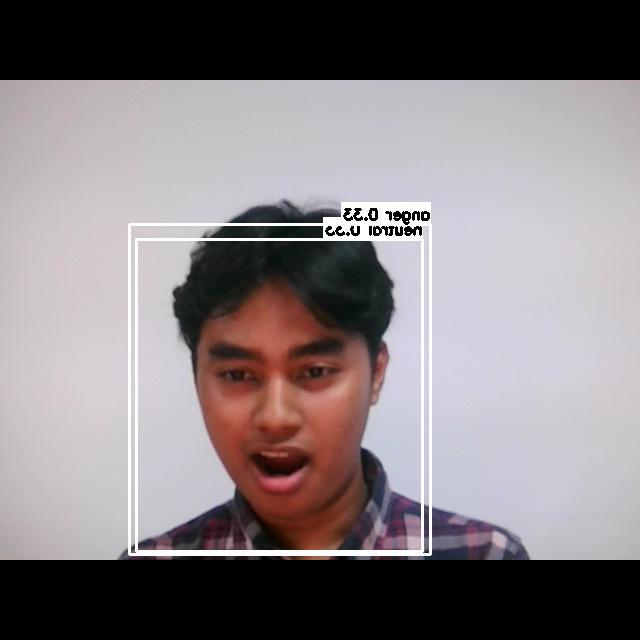Surprised: (182, 301, 390, 504)
